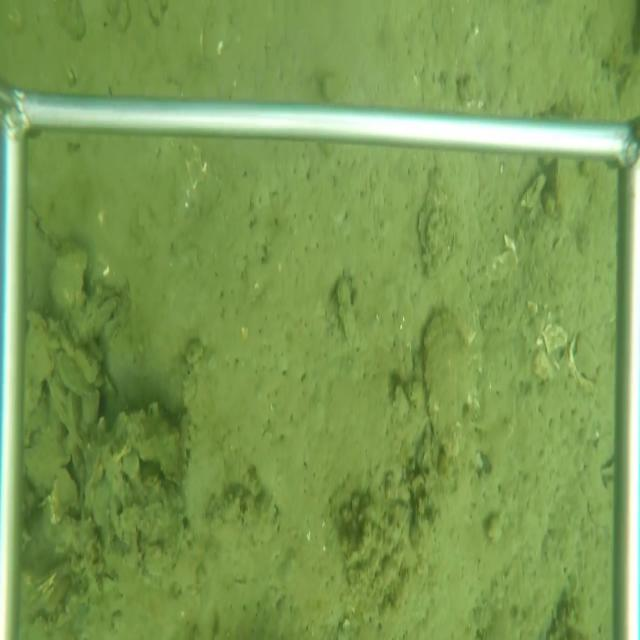Oyster-Closed: (334, 275, 358, 348)
Oyster-Indeterminate: (422, 306, 470, 459), (47, 233, 89, 317), (546, 157, 586, 232)
